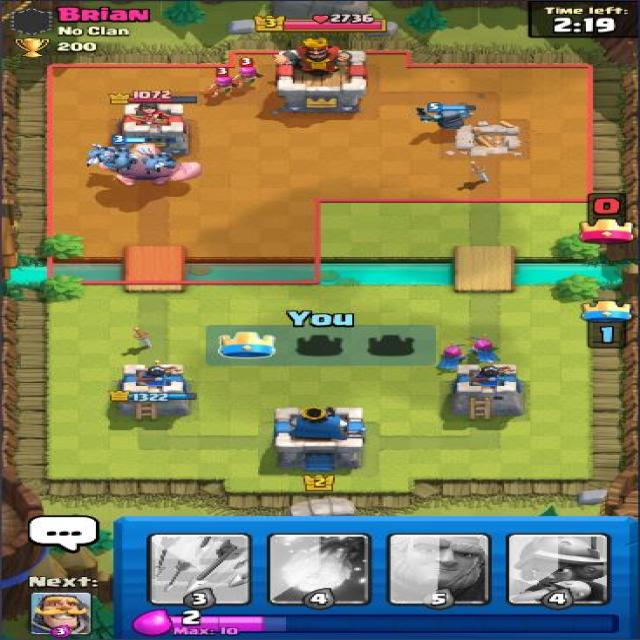Enemy-Archer: (197, 66, 244, 99), (225, 56, 267, 88)
Player-Archer: (460, 335, 506, 364), (434, 343, 471, 374)
Player-Giant: (96, 134, 206, 187)
Player-MiniPEKKA: (415, 101, 478, 130)
Player-Minion: (136, 147, 181, 175), (103, 145, 141, 173), (84, 143, 122, 167)
